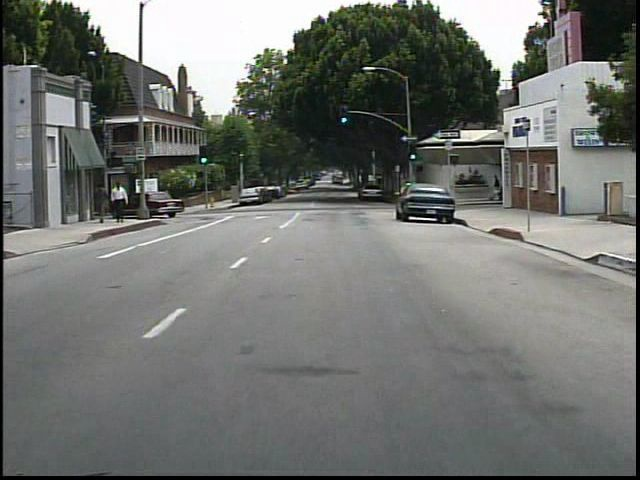person: (95, 182, 114, 226), (114, 181, 133, 224), (489, 170, 504, 205)
